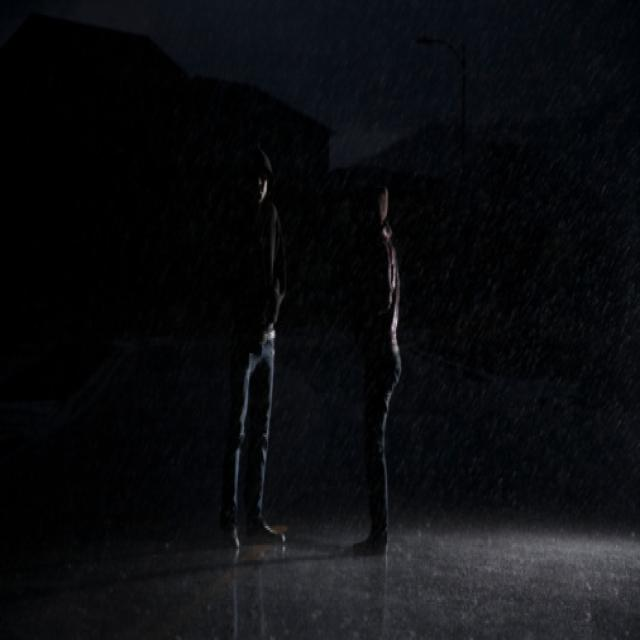People: (218, 143, 304, 552), (344, 171, 414, 553)
